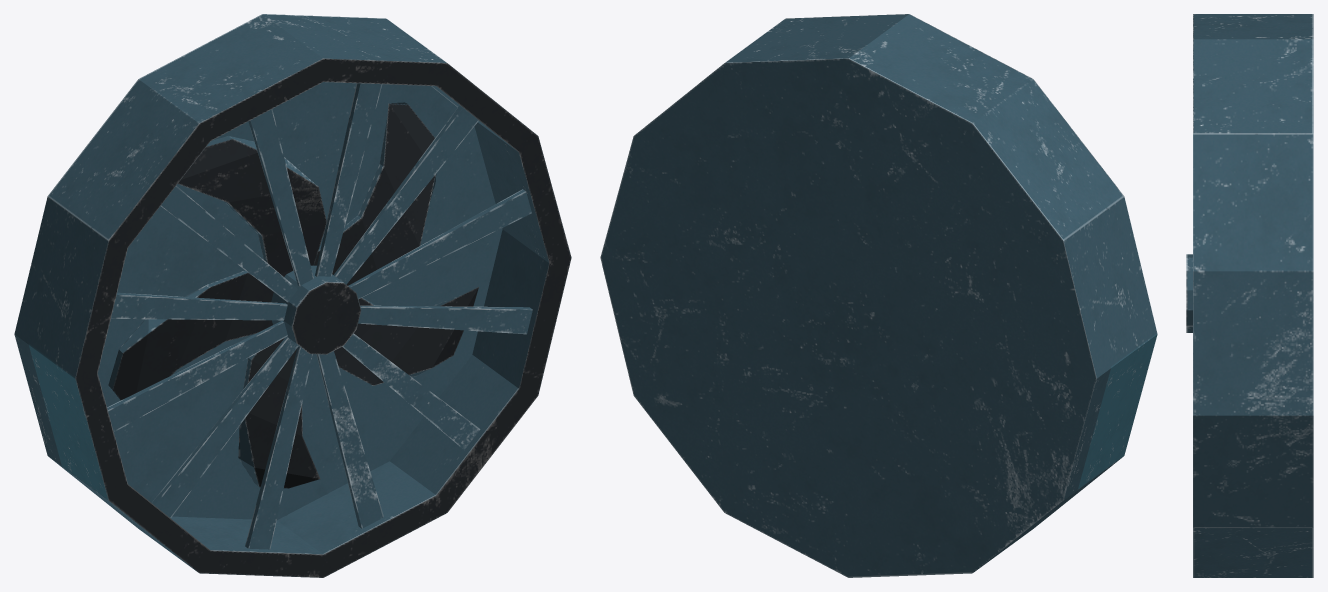
Rendered from FanMini1.gltf.
3 views of the same model, side by side, from view 1: azimuth 30°, elevation 25°; view 2: azimuth 150°, elevation 25°; view 3: azimuth 270°, elevation 25° (orthographic).
Parts seen in each view (by area): view 1: Cylinder.017, Ostrza.001; view 2: Cylinder.017; view 3: Cylinder.017.
Part boxes in pixels (x1=…): Cylinder.017: x1=14, y1=14, x2=571, y2=577; Ostrza.001: x1=108, y1=102, x2=478, y2=488; Cylinder.017: x1=600, y1=14, x2=1157, y2=577; Cylinder.017: x1=1186, y1=14, x2=1313, y2=577.
Size of the model in its own units: 2.25 by 2.25 by 0.5049.
Materials: 1 (1 with a texture image).
